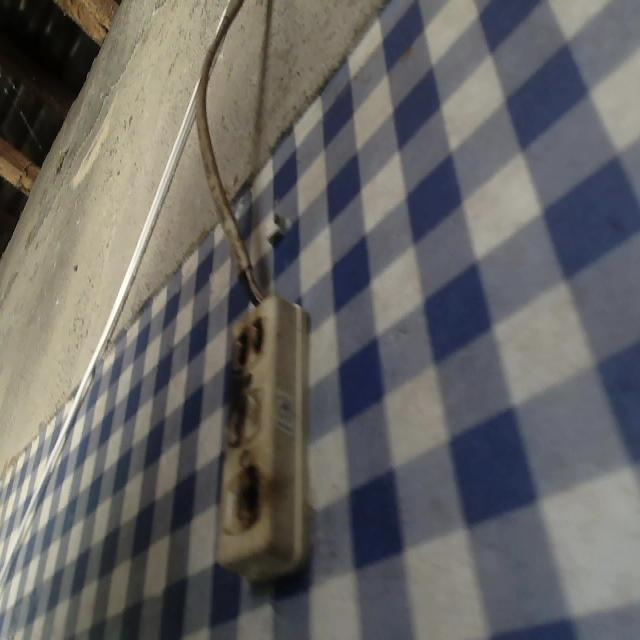-: (231, 313, 269, 367), (236, 472, 263, 535), (225, 390, 249, 450)
